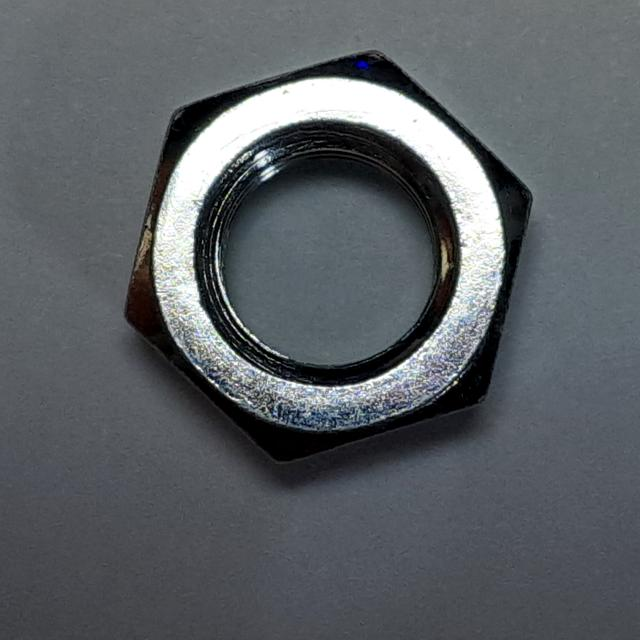Excellent: (109, 38, 546, 478)
